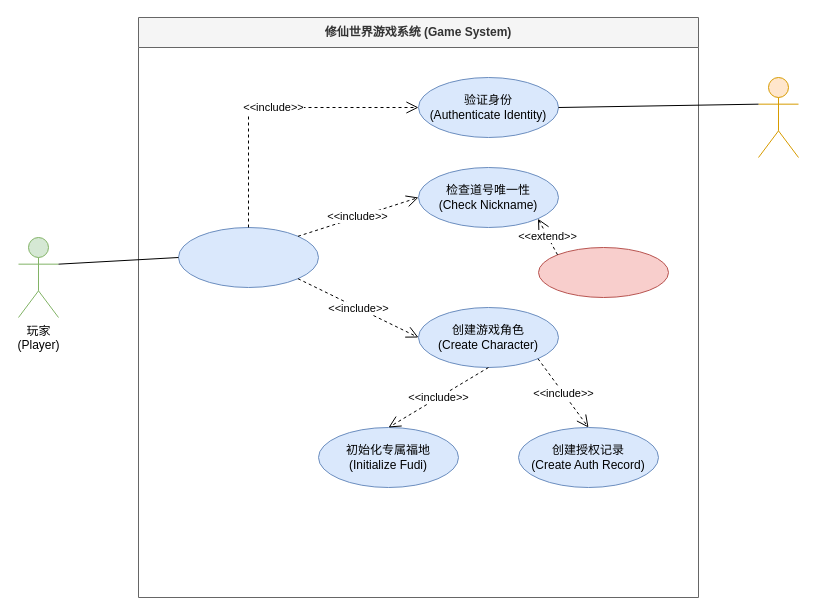
The diagram is 837 pixels wide and 615 high, and some of its shapes have lost their labels. The shapes that lost their labels are listed below. From the top down, each one's box as (x1, y1, x2, y2) in pixels, then its label:
(758, 76, 798, 158): 第三方认证平台 (e.g., QQ)
(178, 226, 318, 288): 我要修仙 (注册) (Register Account)
(538, 246, 668, 298): 提示道号被占用 (Prompt Dup Name)
